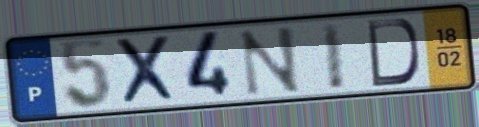4: (181, 28, 240, 103)
5: (53, 36, 116, 112)
D: (365, 16, 423, 89)
I: (318, 19, 348, 93)
N: (237, 24, 304, 99)
X: (111, 33, 183, 108)
